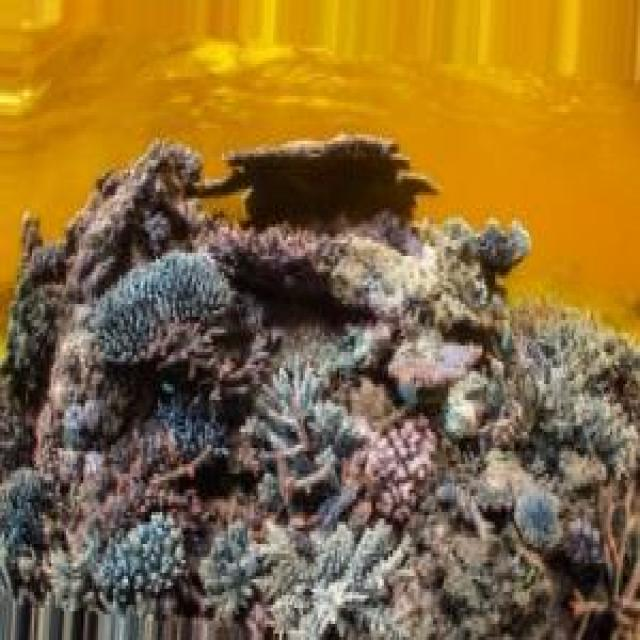Healthy: (1, 132, 640, 640), (223, 132, 438, 238), (249, 509, 415, 640), (97, 241, 229, 355), (266, 375, 366, 513), (7, 247, 71, 449), (507, 446, 600, 583), (340, 420, 447, 532), (135, 366, 248, 471), (389, 324, 483, 420), (1, 471, 63, 612), (100, 514, 187, 595)
